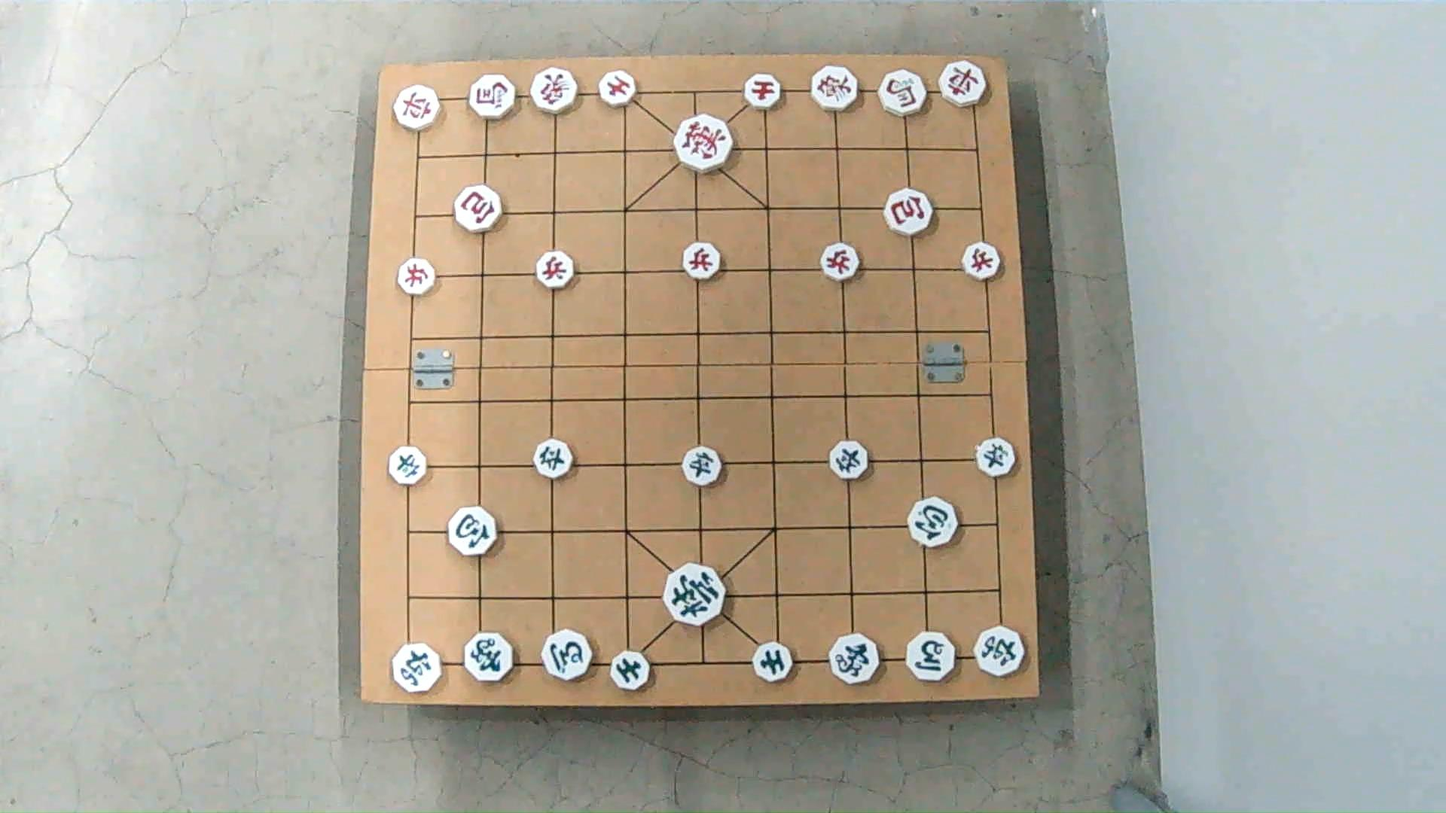cha_green: (972, 631, 1027, 678), (391, 646, 444, 693)
cha_red: (939, 64, 993, 105), (393, 87, 444, 128)
jol_green: (973, 441, 1020, 476), (527, 443, 571, 478), (825, 444, 869, 479), (389, 449, 432, 484), (679, 449, 722, 483)
jol_red: (532, 254, 575, 288), (819, 248, 861, 282), (960, 246, 1003, 279), (398, 261, 440, 294), (682, 245, 722, 279)
ma_green: (905, 636, 958, 682), (541, 635, 593, 681)
ma_red: (877, 72, 931, 115), (468, 77, 520, 119)
po_green: (450, 510, 502, 556), (908, 504, 959, 548)
po_red: (884, 193, 937, 236), (455, 190, 505, 232)
sa_green: (753, 641, 795, 683), (609, 653, 651, 691)
sa_red: (600, 73, 641, 106), (740, 77, 782, 108)
sang_green: (464, 630, 517, 685), (825, 632, 880, 684)
sang_red: (809, 68, 861, 111), (529, 71, 579, 113)
wang_green: (663, 567, 727, 623)
wang_red: (674, 118, 737, 169)
